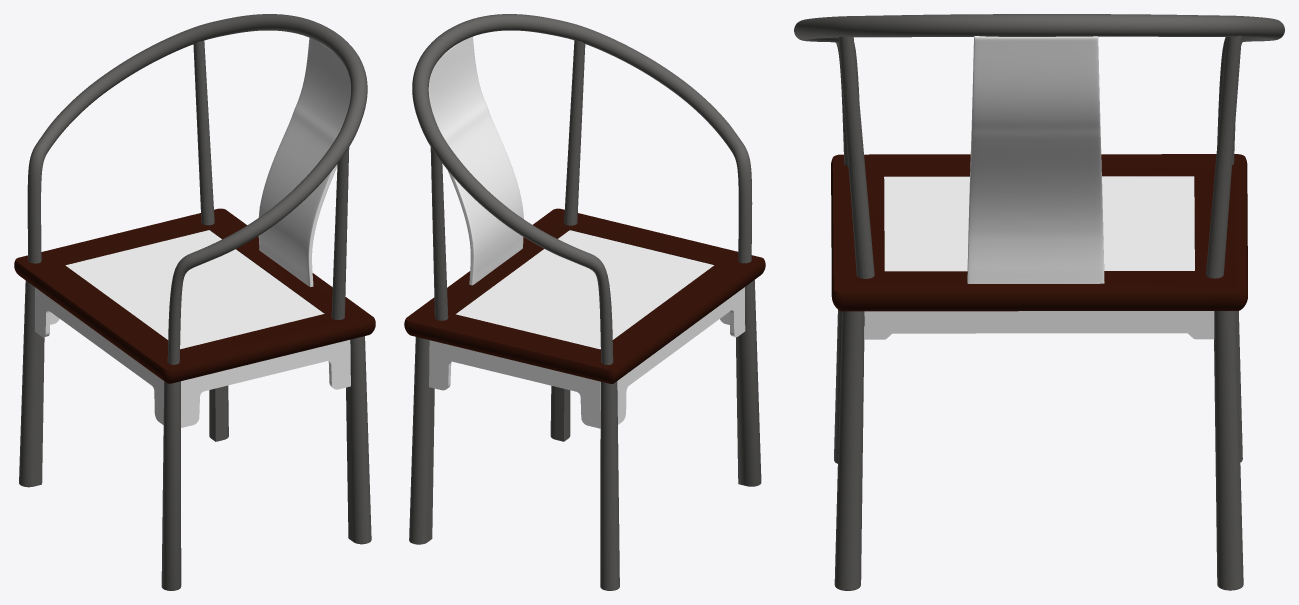
Rendered from chair.fbx.
3 renders of one model, left to right at view 1: azimuth 30°, elevation 25°; view 2: azimuth 150°, elevation 25°; view 3: azimuth 270°, elevation 25°, orthographic. The views are drawn at different scales.
Visible parts, largest first — view 1: Obj3d66-7760510-13-725, acry sit, Object030, acry mack, Obj3d66-7760510-6-831, Obj3d66-7760510-12-13, acry 2, Obj3d66-7760510-14-288, Obj3d66-7760510-29-546, acry1, Obj3d66-7760510-17-97; view 2: Obj3d66-7760510-13-725, acry sit, Object030, acry mack, Obj3d66-7760510-6-831, Obj3d66-7760510-17-97, acry 4, Obj3d66-7760510-29-546, Obj3d66-7760510-14-288, acry1, Obj3d66-7760510-12-13; view 3: acry mack, Obj3d66-7760510-13-725, acry sit, Object030, acry 3, Obj3d66-7760510-6-831, Obj3d66-7760510-12-13, Obj3d66-7760510-17-97, Obj3d66-7760510-29-546.
Part boxes in pixels (left/top/right/bottom): Obj3d66-7760510-13-725: left=14, top=208, right=375, bottom=383; acry sit: left=65, top=230, right=324, bottom=349; Object030: left=27, top=14, right=367, bottom=364; acry mack: left=258, top=37, right=350, bottom=286; Obj3d66-7760510-6-831: left=193, top=41, right=349, bottom=319; Obj3d66-7760510-12-13: left=346, top=336, right=371, bottom=544; acry 2: left=181, top=340, right=350, bottom=427; Obj3d66-7760510-14-288: left=19, top=281, right=44, bottom=487; Obj3d66-7760510-29-546: left=161, top=381, right=181, bottom=590; acry1: left=35, top=287, right=163, bottom=424; Obj3d66-7760510-17-97: left=209, top=385, right=228, bottom=441; Obj3d66-7760510-13-725: left=404, top=208, right=765, bottom=383; acry sit: left=456, top=230, right=713, bottom=349; Object030: left=412, top=14, right=752, bottom=364; acry mack: left=428, top=36, right=523, bottom=285; Obj3d66-7760510-6-831: left=430, top=40, right=585, bottom=320; Obj3d66-7760510-17-97: left=409, top=337, right=434, bottom=544; acry 4: left=429, top=340, right=600, bottom=428; Obj3d66-7760510-29-546: left=735, top=280, right=761, bottom=486; Obj3d66-7760510-14-288: left=600, top=381, right=619, bottom=590; acry1: left=617, top=287, right=745, bottom=424; Obj3d66-7760510-12-13: left=550, top=385, right=570, bottom=441; acry mack: left=967, top=36, right=1104, bottom=283; Obj3d66-7760510-13-725: left=831, top=154, right=1247, bottom=311; acry sit: left=884, top=176, right=1194, bottom=271; Object030: left=794, top=14, right=1284, bottom=166; acry 3: left=864, top=311, right=1214, bottom=339; Obj3d66-7760510-6-831: left=838, top=35, right=1241, bottom=278; Obj3d66-7760510-12-13: left=834, top=311, right=864, bottom=590; Obj3d66-7760510-17-97: left=1214, top=311, right=1243, bottom=590; Obj3d66-7760510-29-546: left=834, top=310, right=841, bottom=463.
Size of the model in its own units: 594 by 1000 by 743.
